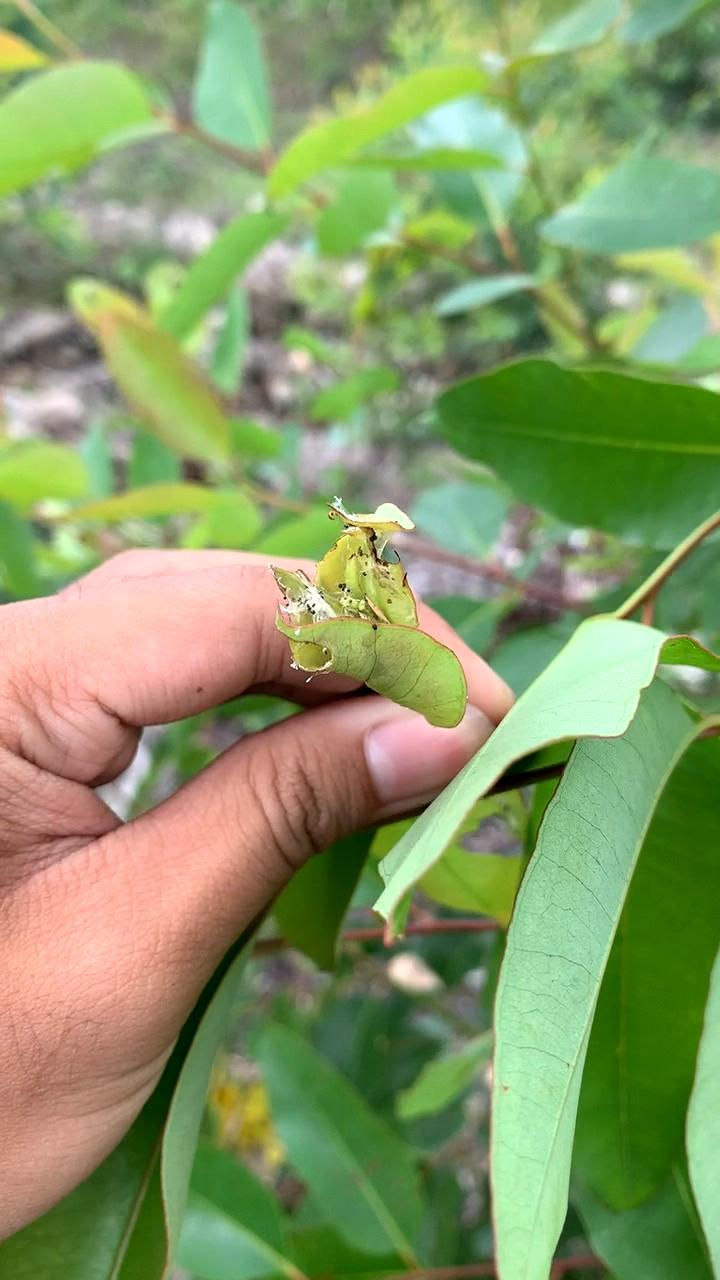Leaf Roller - Leaf: (265, 505, 481, 739)
